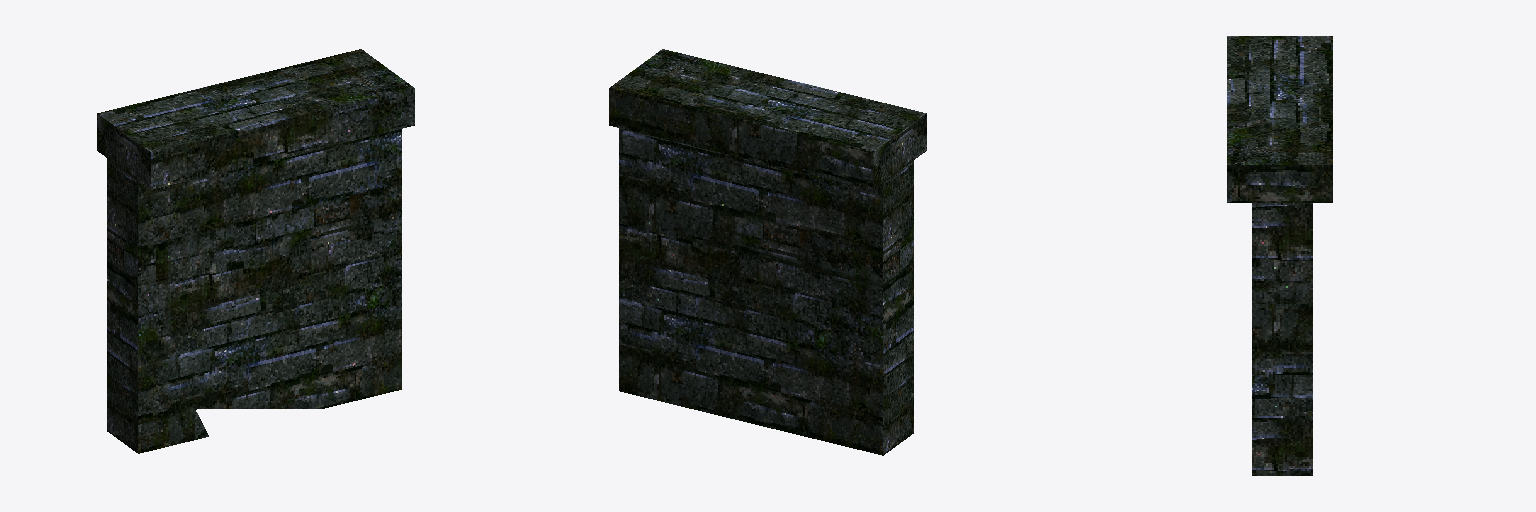
3 views of the same model, side by side, from view 1: azimuth 30°, elevation 25°; view 2: azimuth 150°, elevation 25°; view 3: azimuth 270°, elevation 25° (orthographic).
Parts seen in each view (by area): view 1: wall1; view 2: wall1; view 3: wall1.
Boxes of the visible parts, x1=… form: wall1: x1=97, y1=49, x2=414, y2=453; wall1: x1=609, y1=49, x2=926, y2=455; wall1: x1=1227, y1=36, x2=1332, y2=475.
Bounding box in the file's own units: 4 × 4.5 × 1.4.
1 materials, 1 textured.